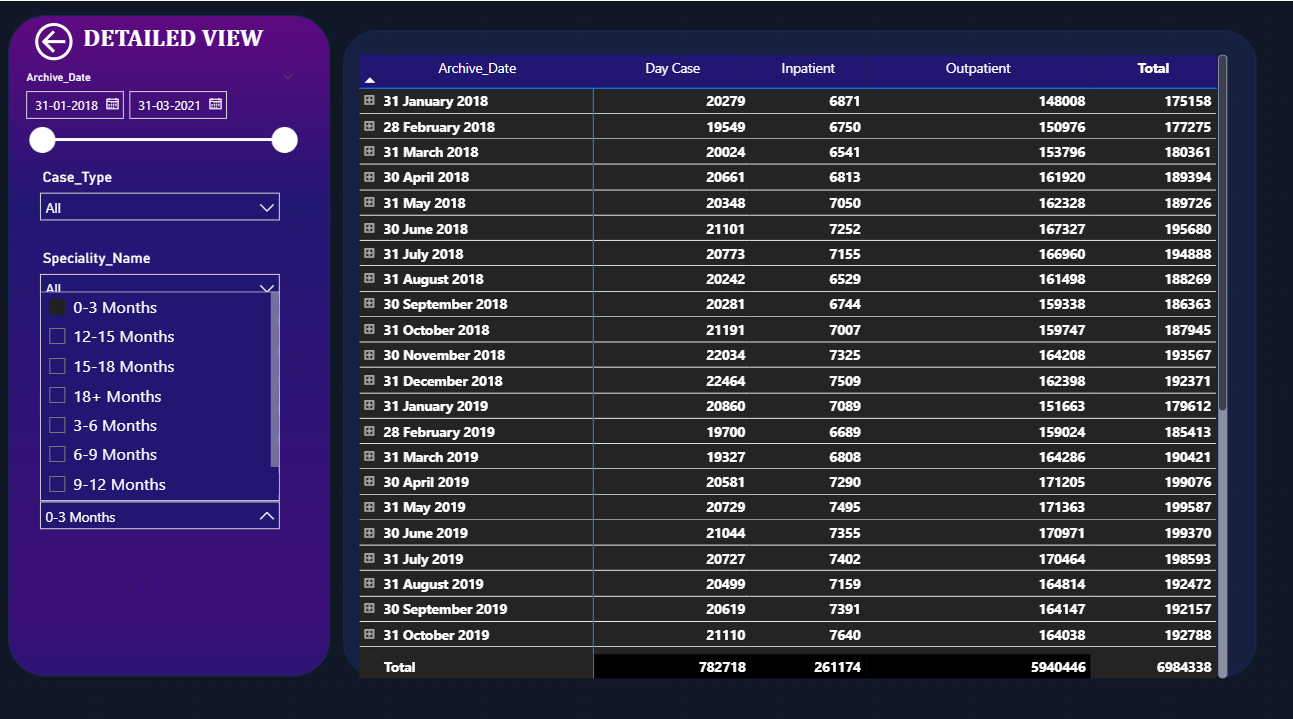

Layout of this report page (visuals, bound fields, positions):
{"tool":"powerbi","page":{"name":"Detail","canvas":[1280,720],"ordinal":1},"visuals":[{"type":"slicer","fields":{"Values":["All_Data.Archive_Date"]},"box":[16,64,288,96],"z":0},{"type":"slicer","fields":{"Values":["All_Data.Case_Type"]},"box":[32,160,256,80],"z":1000},{"type":"slicer","fields":{"Values":["All_Data.Speciality_Name"]},"box":[32,240,256,80],"z":2000},{"type":"textbox","box":[80,16,224,48],"z":3000},{"type":"slicer","fields":{"Values":["All_Data.Time_Bands"]},"box":[32,464,256,80],"z":4000},{"type":"slicer","fields":{"Values":["All_Data.Age_Profile"]},"box":[32,352,256,80],"z":5000},{"type":"pivotTable","fields":{"Rows":["All_Data.Archive_Date","All_Data.Speciality_Name","All_Data.Age_Profile","All_Data.Time_Bands"],"Columns":["All_Data.Case_Type"],"Values":["Sum(All_Data.Total)"]},"box":[352,48,864,624],"z":6000},{"type":"actionButton","box":[32,16,64,48],"z":7000}]}

Visuals, with their boxes in screenshot pixels (x1, y1, x2, y2), scaled from the page's 1280x720 canvas onto the 1293x719 screenshot:
slicer - All_Data.Archive_Date: box(16, 64, 307, 160)
slicer - All_Data.Case_Type: box(32, 160, 291, 240)
slicer - All_Data.Speciality_Name: box(32, 240, 291, 320)
textbox: box(81, 16, 307, 64)
slicer - All_Data.Time_Bands: box(32, 463, 291, 543)
slicer - All_Data.Age_Profile: box(32, 352, 291, 431)
pivotTable - All_Data.Archive_Date x All_Data.Speciality_Name: box(356, 48, 1228, 671)
actionButton: box(32, 16, 97, 64)
